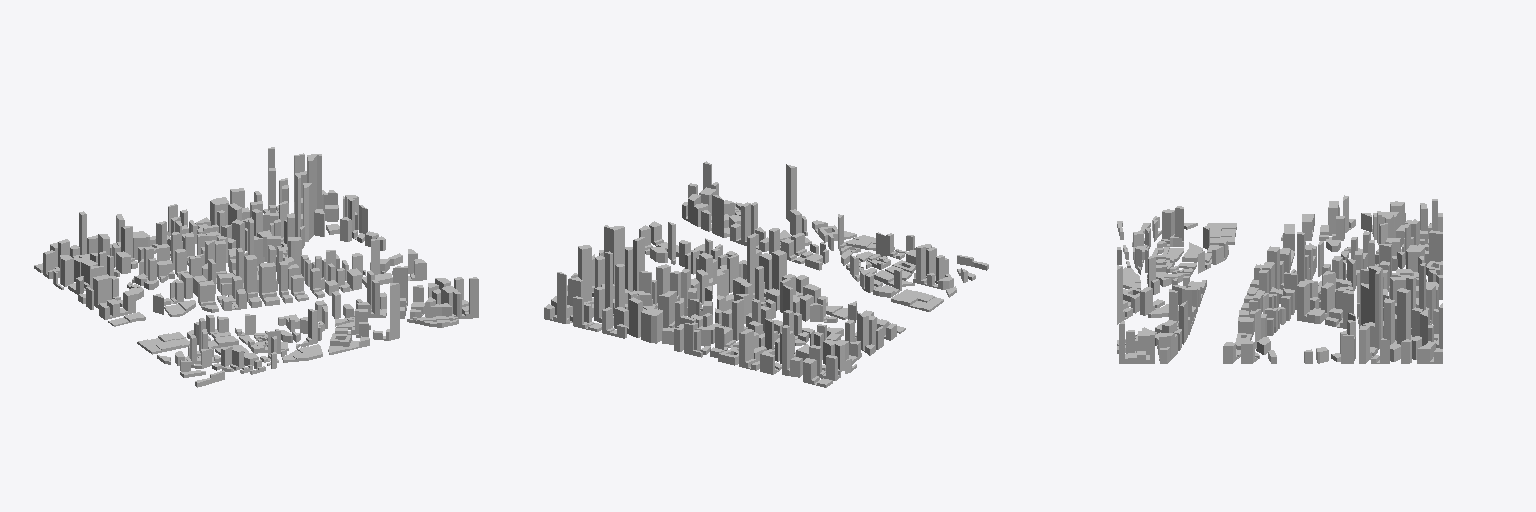
File: buildings_00016.obj
The picture shows the model from 3 angles: view 1: azimuth 30°, elevation 25°; view 2: azimuth 150°, elevation 25°; view 3: azimuth 270°, elevation 25°; orthographic projection.
Size of the model in its own units: 1512 by 387 by 1503.